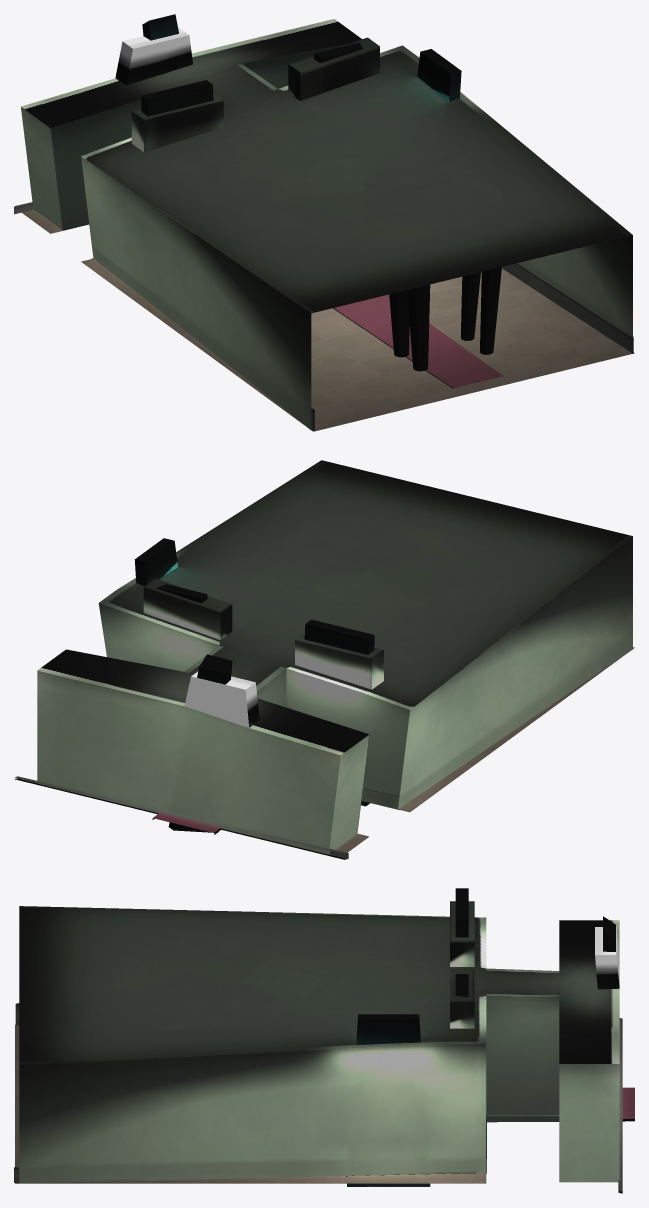
File: lobbyMenu01.fbx
3 renders of one model, top to bottom at view 1: azimuth 30°, elevation 25°; view 2: azimuth 150°, elevation 25°; view 3: azimuth 270°, elevation 25°, orthographic. The views are drawn at different scales.
Visible parts, largest first — view 1: polySurface43; view 2: polySurface43; view 3: polySurface43.
Part boxes in pixels (x1=…): polySurface43: x1=14, y1=14, x2=634, y2=431; polySurface43: x1=14, y1=460, x2=634, y2=859; polySurface43: x1=14, y1=888, x2=634, y2=1193.
Bounding box in the file's own units: 30.84 × 16.33 × 47.59.
